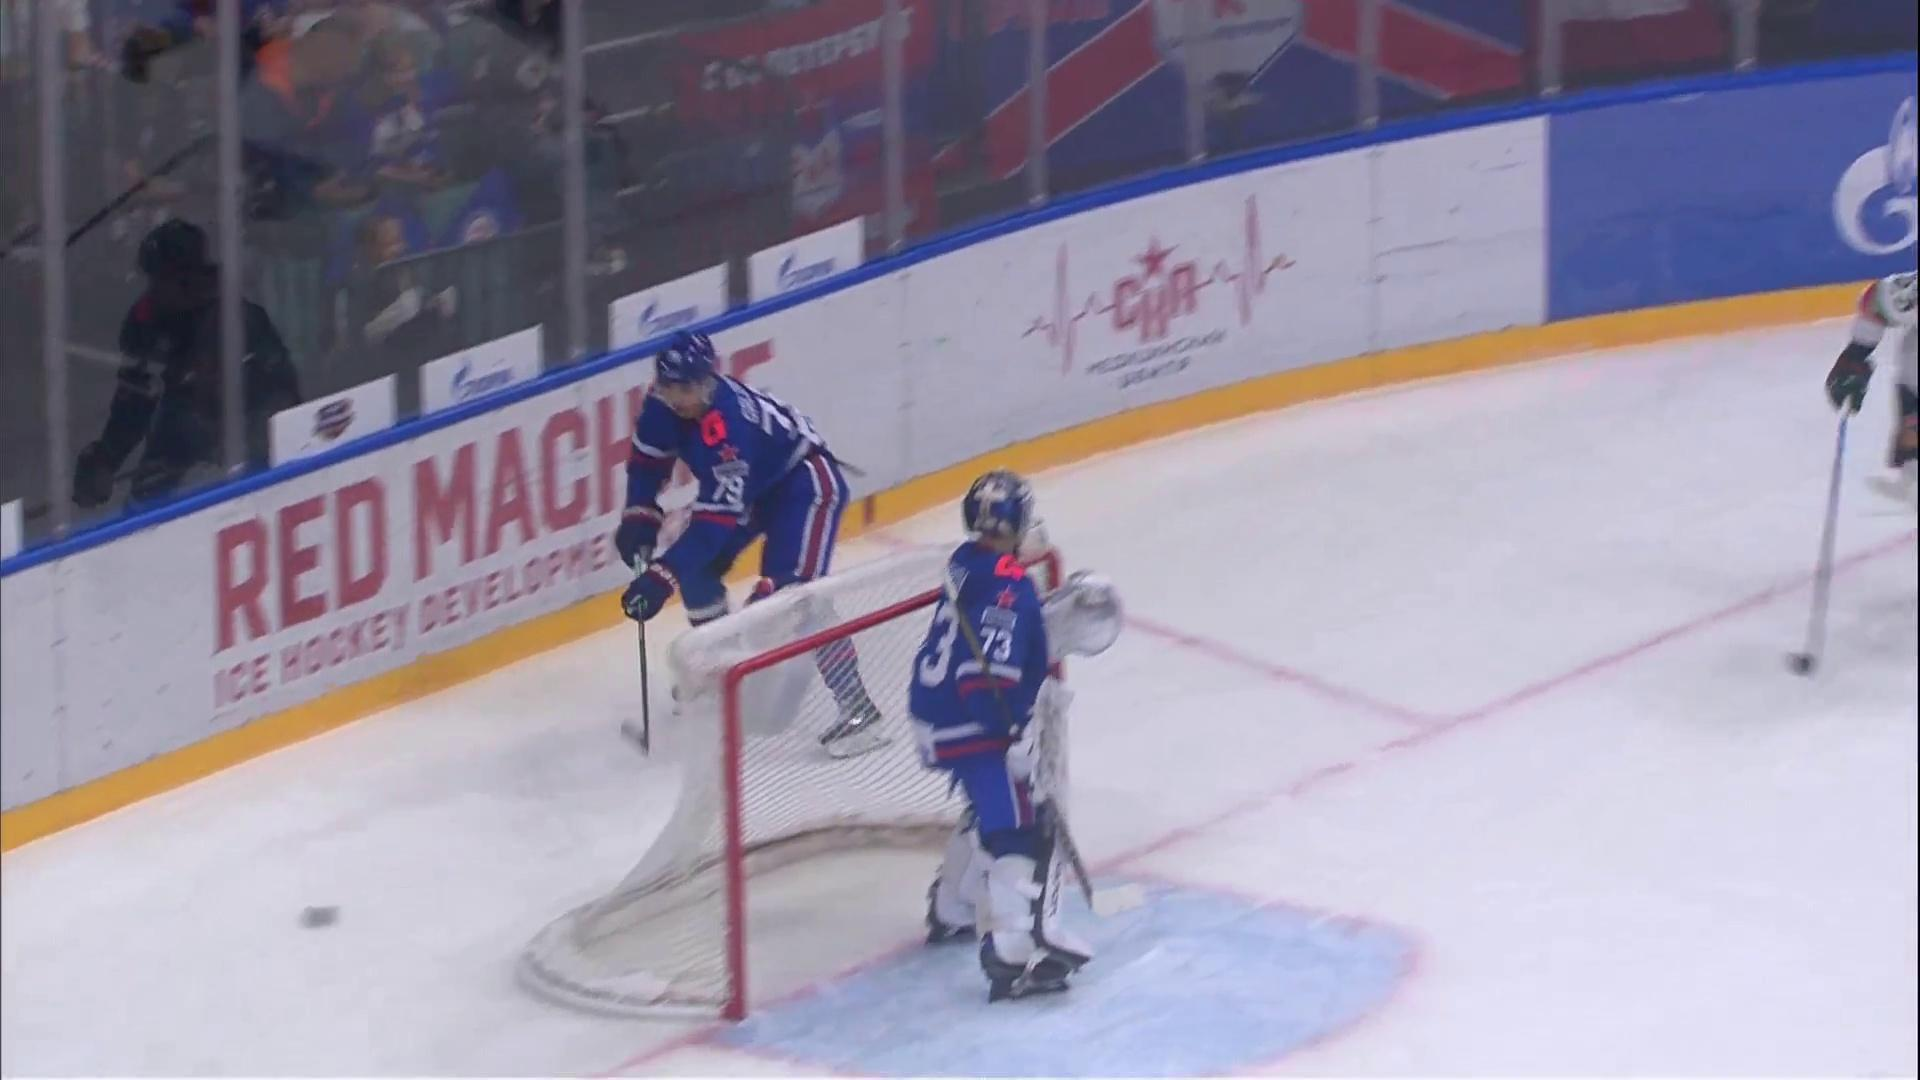ball: (301, 903, 345, 931)
